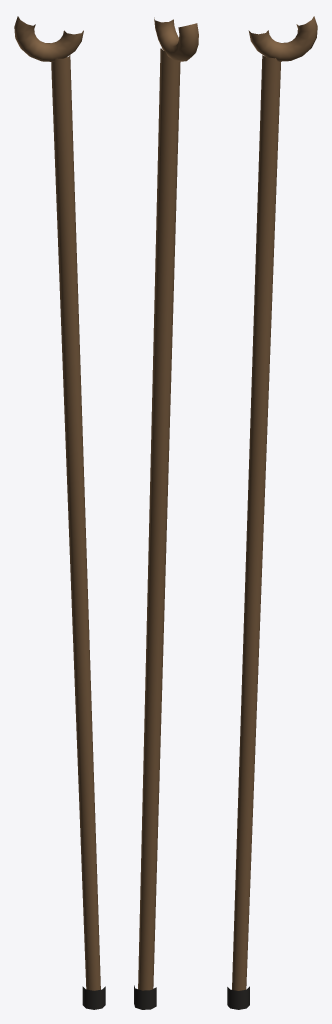
Rendered from walking_stick_f.glb.
The picture shows the model from 3 angles, left to right: view 1: azimuth 90°, elevation 25°; view 2: azimuth 210°, elevation 25°; view 3: azimuth 270°, elevation 25°; orthographic projection. The views are drawn at different scales.
Visible parts, largest first — view 1: hair; view 2: hair; view 3: hair.
Boxes of the visible parts, <box> form: hair: <box>14,16,105,1009</box>; hair: <box>134,17,198,1009</box>; hair: <box>227,16,317,1009</box>.
Size of the model in its own units: 0.0325 by 1.14 by 0.0953.
